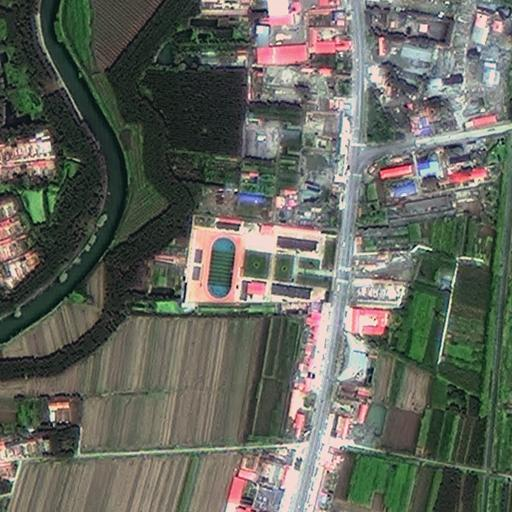school: (187, 219, 339, 313)
